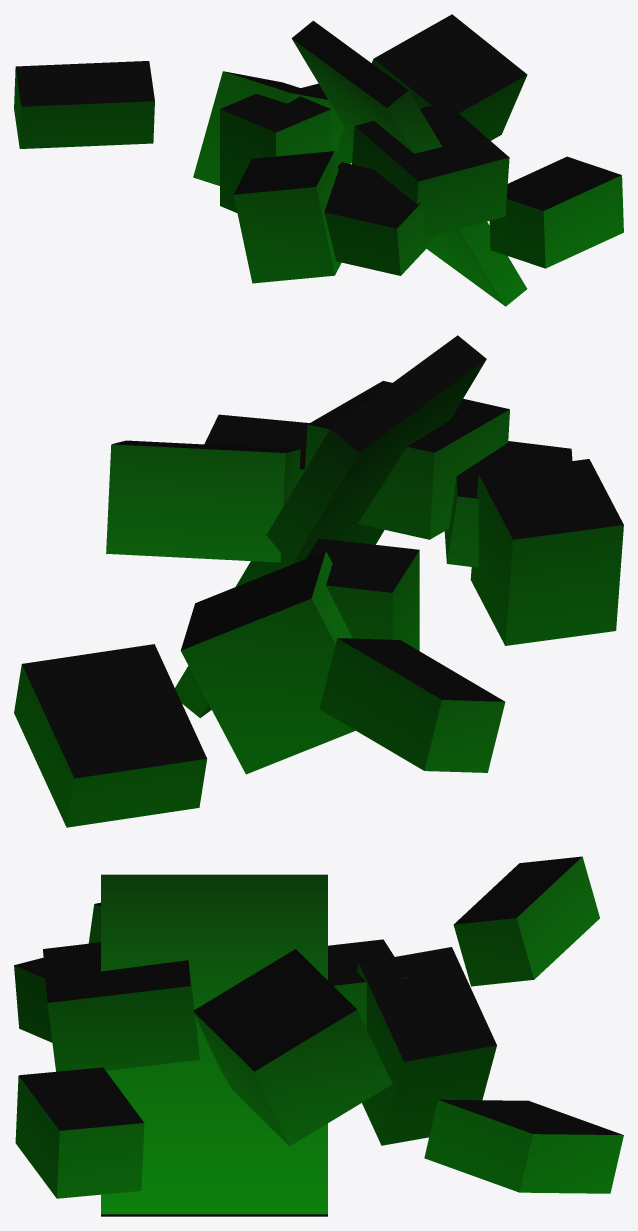
Rendered from junkpile.glb.
3 renders of one model, top to bottom at view 1: azimuth 30°, elevation 25°; view 2: azimuth 150°, elevation 25°; view 3: azimuth 270°, elevation 25°, orthographic. The views are drawn at different scales.
Visible parts, largest first — view 1: lod0; view 2: lod0; view 3: lod0.
Boxes of the visible parts, x1,y1,x2,y2 form: lod0: (14, 14, 623, 306); lod0: (14, 335, 623, 827); lod0: (14, 856, 623, 1216).
Size of what is drawn, in the model's own units: 4.94 by 2.78 by 5.38.
